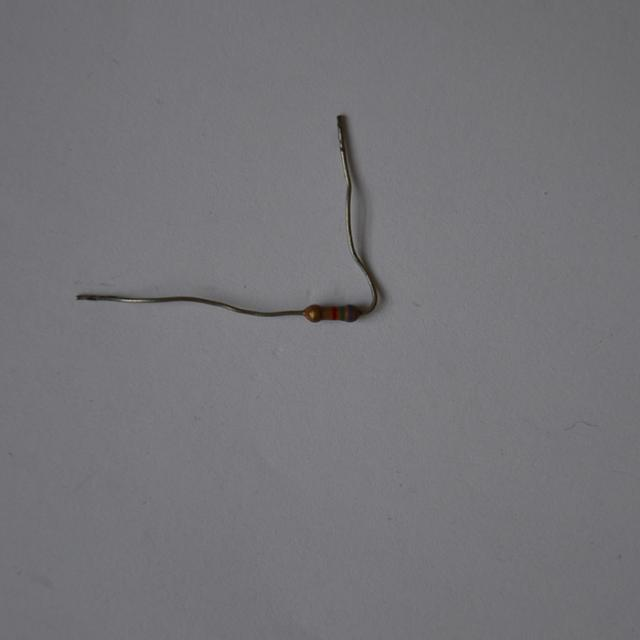gold: (312, 304, 317, 321)
green: (341, 306, 345, 320)
red: (331, 306, 337, 319)
resistor: (305, 296, 371, 332)
violet: (348, 305, 354, 322)
